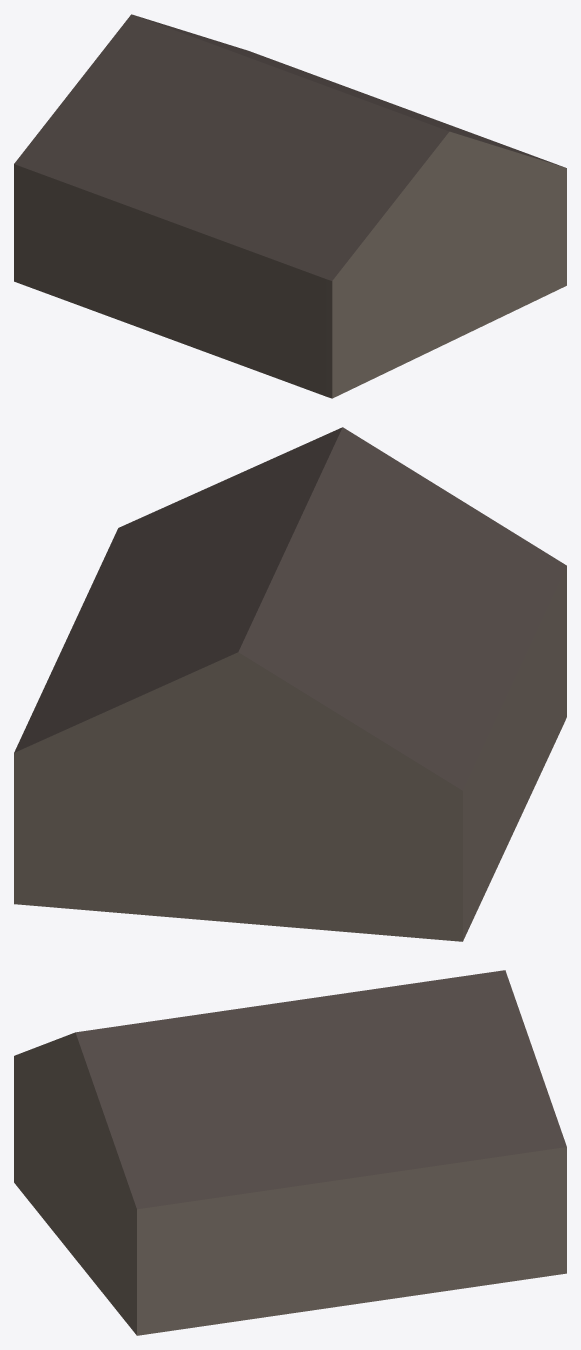
3 views of the same model, one above another, from view 1: azimuth 30°, elevation 25°; view 2: azimuth 150°, elevation 25°; view 3: azimuth 270°, elevation 25° (orthographic). The views are drawn at different scales.
Parts seen in each view (by area): view 1: HP-w859457316; view 2: HP-w859457316; view 3: HP-w859457316.
Boxes of the visible parts, x1,y1,x2,y2 form: HP-w859457316: (14,14,566,398); HP-w859457316: (14,427,566,941); HP-w859457316: (14,970,566,1335).
Bounding box in the file's own units: 21.93 × 10.76 × 23.77.
